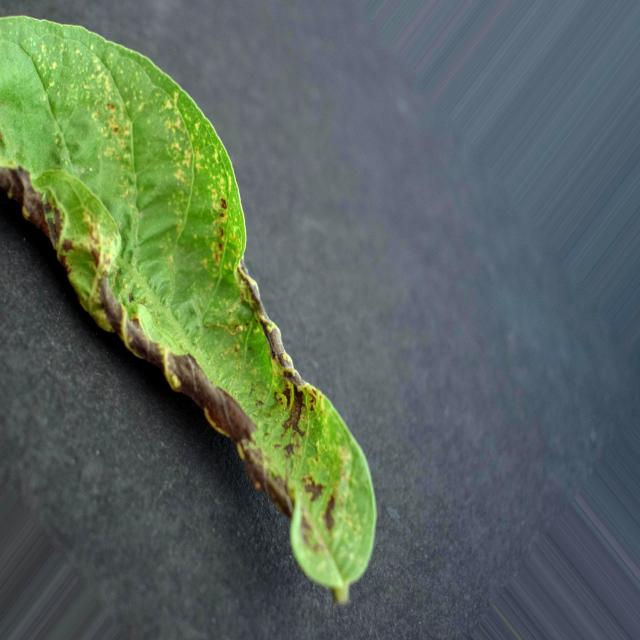Canker: (0, 17, 376, 602)
